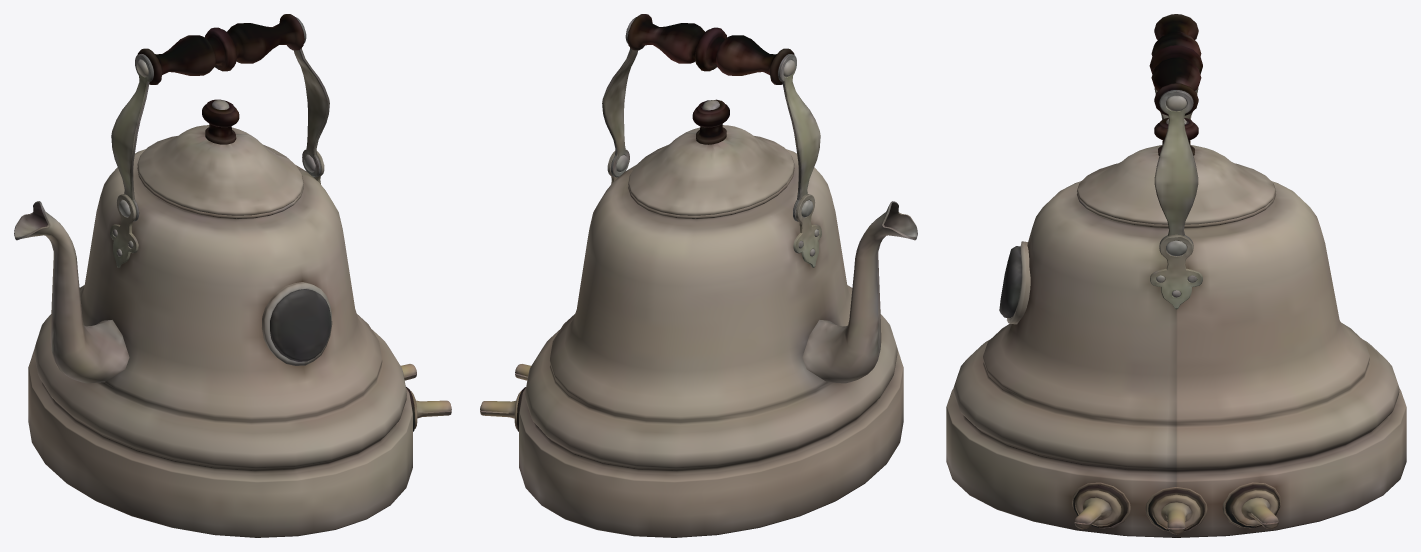
The model's file is ph-vintage-electric-kettle.glb.
3 renders of one model, left to right at view 1: azimuth 30°, elevation 25°; view 2: azimuth 150°, elevation 25°; view 3: azimuth 270°, elevation 25°, orthographic.
Visible parts, largest first — view 1: vintage_electric_kettle; view 2: vintage_electric_kettle; view 3: vintage_electric_kettle.
Part boxes in pixels (x1,y1,x2,y2): vintage_electric_kettle: [14, 14, 451, 537]; vintage_electric_kettle: [480, 14, 917, 537]; vintage_electric_kettle: [946, 14, 1406, 537].
Size of the model in its own units: 1 by 1 by 1.
2 materials, 2 textured.
